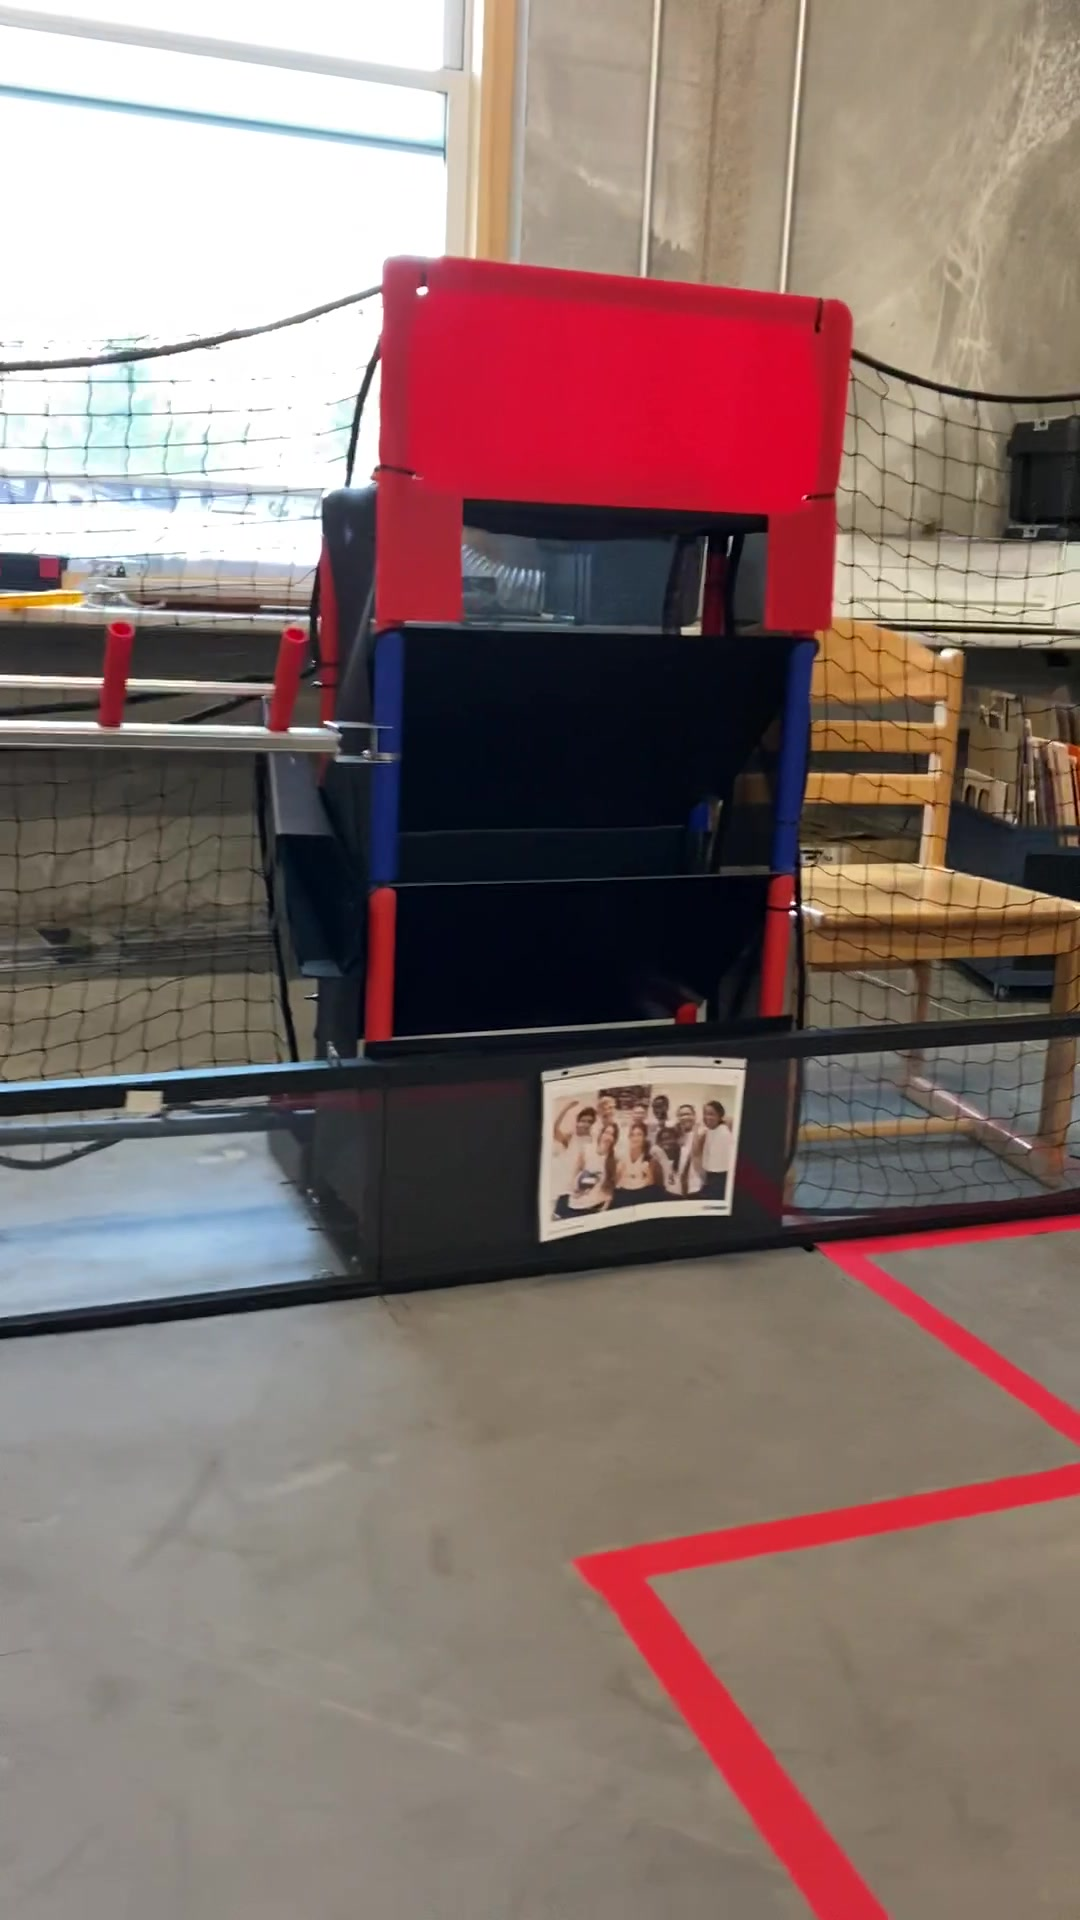high_goal: (459, 504, 775, 640)
